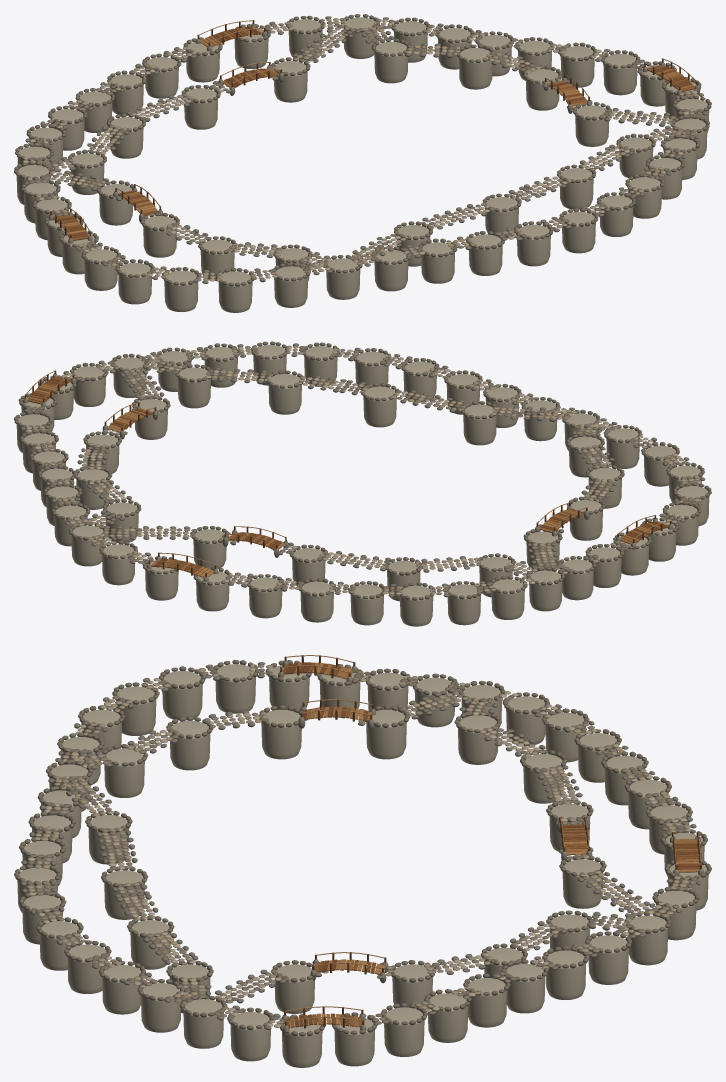
Rendered from duong.glb.
3 renders of one model, top to bottom at view 1: azimuth 30°, elevation 25°; view 2: azimuth 150°, elevation 25°; view 3: azimuth 270°, elevation 25°, orthographic. The views are drawn at different scales.
Visible parts, largest first — view 1: duong_2_4, duong_5_3, duong_4_2, duong_3_2, duong_4_5, duong_3_5, duong_2_3, duong_5_4, duong_2_5, duong_5_5, duong_5_2, duong_2_2 (+4 smaller); view 2: duong_2_3, duong_2_4, duong_3_2, duong_4_2, duong_5_4, duong_4_5, duong_5_3, duong_3_5, duong_2_5, duong_2_2, duong_5_5, duong_5_2 (+4 smaller); view 3: duong_2_4, duong_5_3, duong_2_3, duong_5_4, duong_4_2, duong_3_5, duong_3_2, duong_4_5, duong_2_5, duong_5_5, duong_5_2, duong_2_2 (+4 smaller).
Part boxes in pixels (x1,y1,x2,y2): duong_2_4: (44, 184, 277, 304); duong_5_3: (419, 30, 648, 113); duong_4_2: (195, 14, 409, 102); duong_3_2: (75, 37, 283, 132); duong_4_5: (441, 181, 636, 275); duong_3_5: (273, 214, 476, 299); duong_2_3: (14, 125, 142, 240); duong_5_4: (567, 95, 711, 179); duong_2_5: (162, 247, 319, 312); duong_5_5: (619, 152, 685, 218); duong_5_2: (386, 17, 474, 69); duong_2_2: (26, 100, 93, 168); duong_2_3: (415, 524, 629, 619); duong_2_4: (535, 447, 711, 575); duong_3_2: (193, 526, 385, 625); duong_4_2: (65, 499, 243, 600); duong_5_4: (70, 347, 272, 439); duong_4_5: (302, 342, 482, 427); duong_5_3: (14, 402, 158, 509); duong_3_5: (437, 379, 609, 477); duong_2_5: (580, 422, 704, 502); duong_2_2: (383, 581, 483, 626); duong_5_5: (197, 341, 305, 387); duong_5_2: (43, 483, 90, 546); duong_2_4: (127, 655, 375, 770); duong_5_3: (310, 927, 558, 1056); duong_2_3: (352, 668, 563, 764); duong_5_4: (134, 932, 328, 1061); duong_4_2: (546, 831, 711, 965); duong_3_5: (28, 744, 148, 864); duong_3_2: (541, 751, 707, 876); duong_4_5: (14, 836, 154, 970); duong_2_5: (57, 682, 159, 784); duong_5_5: (56, 933, 151, 1014); duong_5_2: (542, 929, 636, 999); duong_2_2: (542, 708, 628, 782).
Size of the model in its own units: 67.61 by 4.08 by 53.29.
